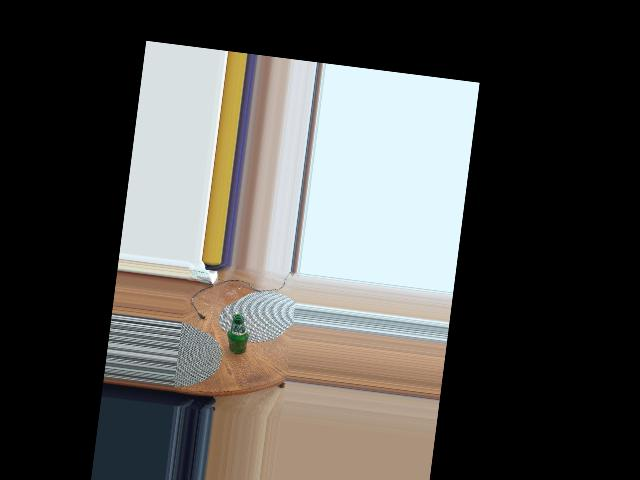beer: (225, 312, 251, 355)
